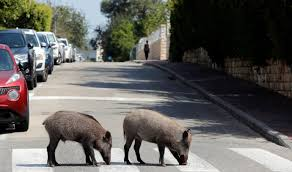boar: (120, 107, 193, 168), (41, 108, 114, 167)
